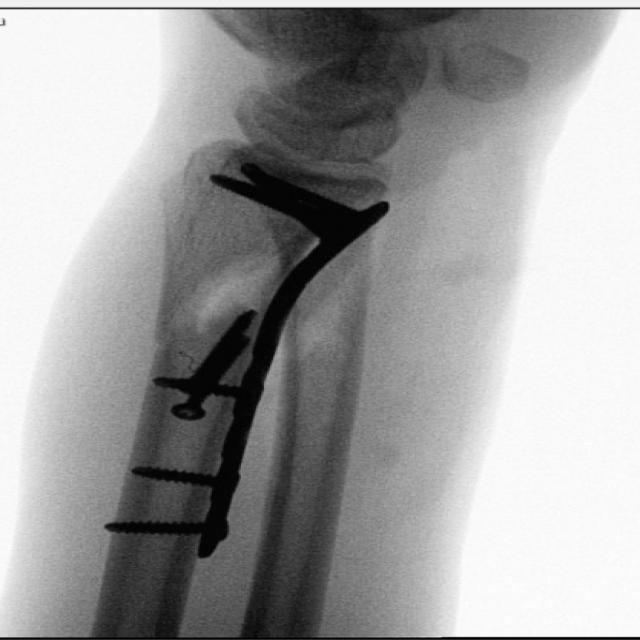x-ray: (104, 136, 396, 574)
